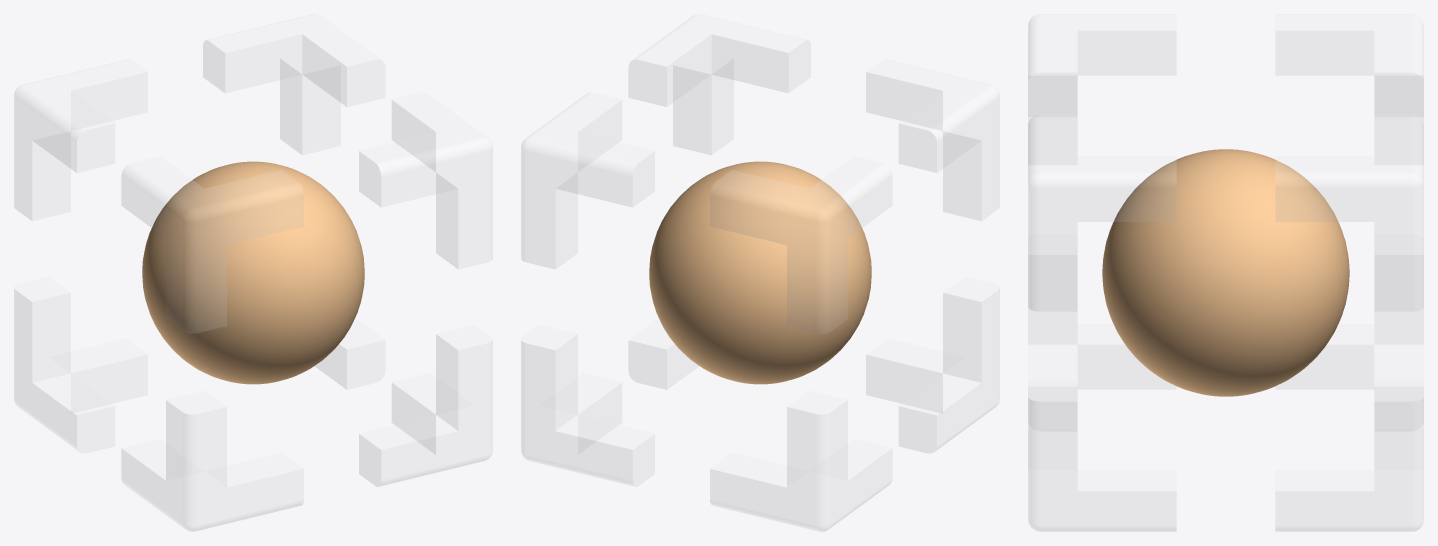
The model's file is pc_texture.GLB.
3 renders of one model, left to right at view 1: azimuth 30°, elevation 25°; view 2: azimuth 150°, elevation 25°; view 3: azimuth 270°, elevation 25°, orthographic. The views are drawn at different scales.
Parts seen in each view (by area): view 1: ps.SLDPRT; view 2: ps.SLDPRT; view 3: ps.SLDPRT.
Part boxes in pixels (x1,y1,x2,y2): ps.SLDPRT: [14, 14, 492, 531]; ps.SLDPRT: [521, 14, 999, 531]; ps.SLDPRT: [1028, 14, 1423, 531].
Bounding box in the file's own units: 0.16 × 0.16 × 0.16.
